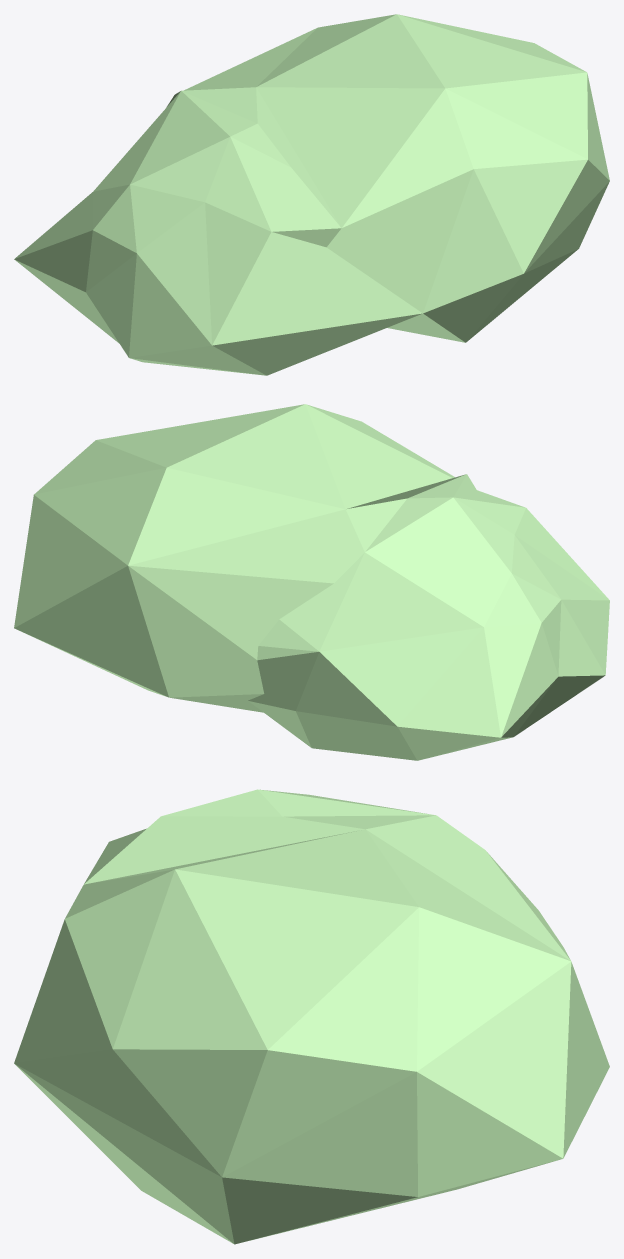
The model's file is treetopleaves_green.glb.
The picture shows the model from 3 angles, top to bottom: view 1: azimuth 30°, elevation 25°; view 2: azimuth 150°, elevation 25°; view 3: azimuth 270°, elevation 25°; orthographic projection. The views are drawn at different scales.
Parts seen in each view (by area): view 1: Cylinder; view 2: Cylinder; view 3: Cylinder.
Boxes of the visible parts, x1,y1,x2,y2 form: Cylinder: (14,14,609,375); Cylinder: (14,404,609,760); Cylinder: (14,789,609,1244).
Bounding box in the file's own units: 1.68 × 0.8055 × 1.35.
